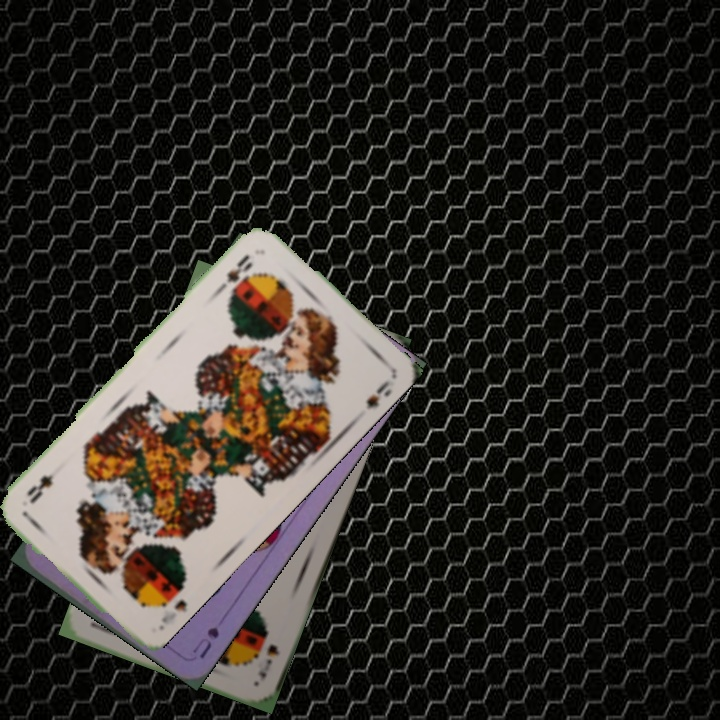SO: (154, 577, 187, 633), (214, 250, 256, 294), (254, 640, 283, 682)
SU: (188, 623, 222, 661)
